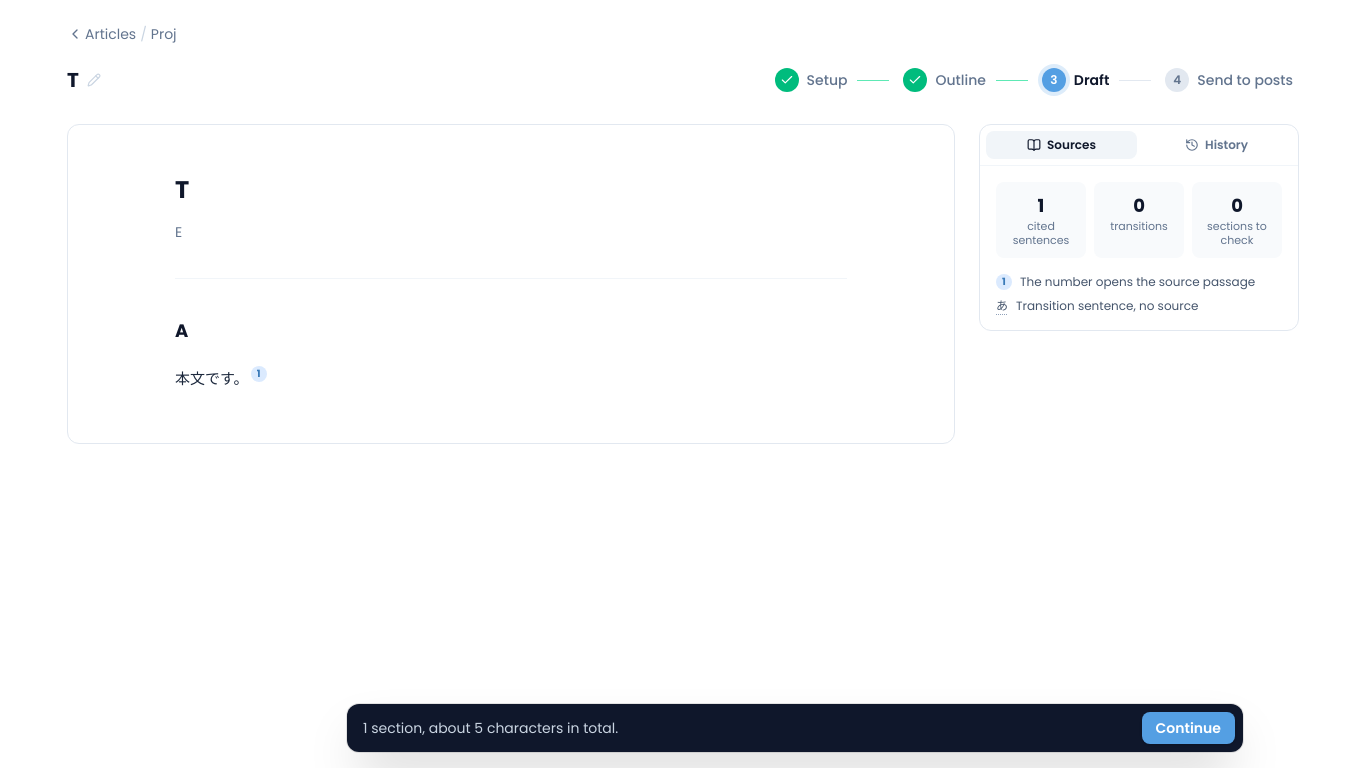
Scenario: PieceWorkspace › shows where a sentence comes from
Click the button named "Source 1": (258, 374) [250,366,266,382]
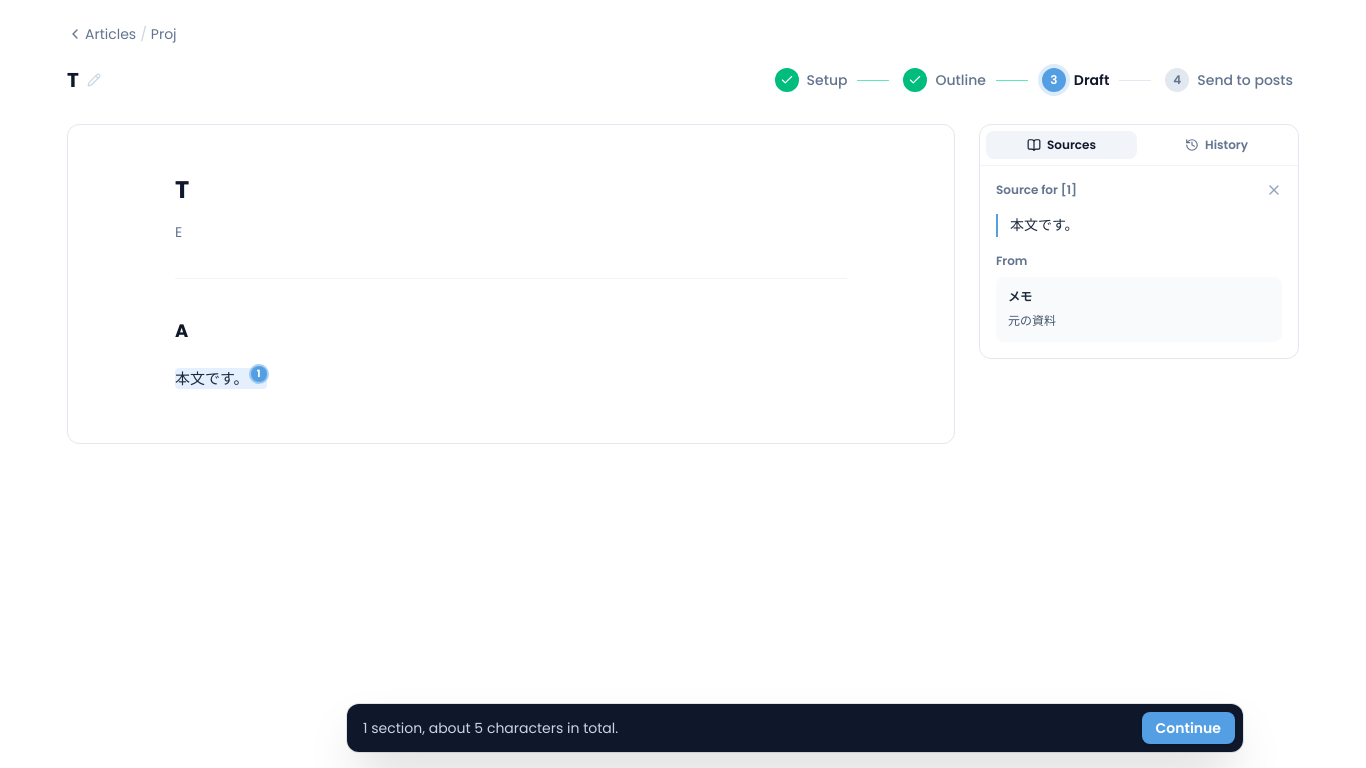
Check: the text "元の資料" is shown, box [1008,312,1056,329]
